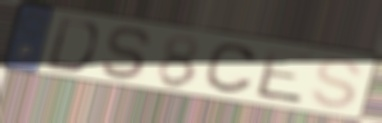8: (153, 32, 206, 89)
C: (201, 42, 260, 96)
D: (44, 16, 101, 74)
E: (254, 46, 317, 107)
S: (98, 24, 155, 82), (308, 55, 366, 111)
